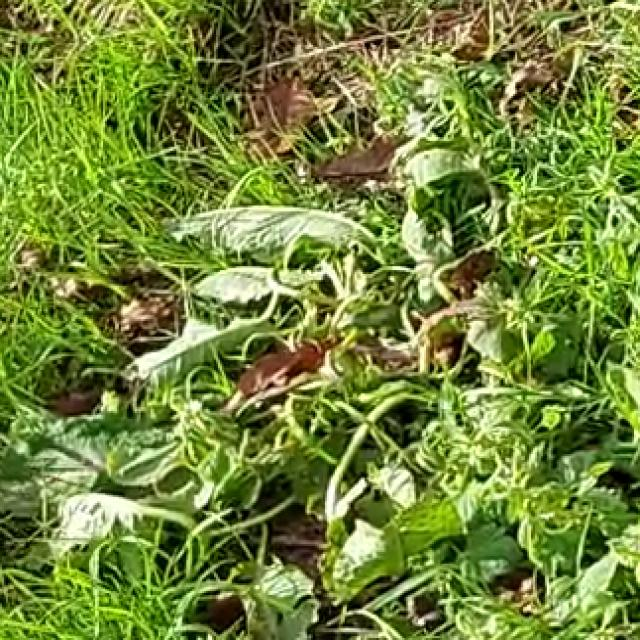organic waste: (149, 116, 519, 434), (0, 372, 402, 640)
